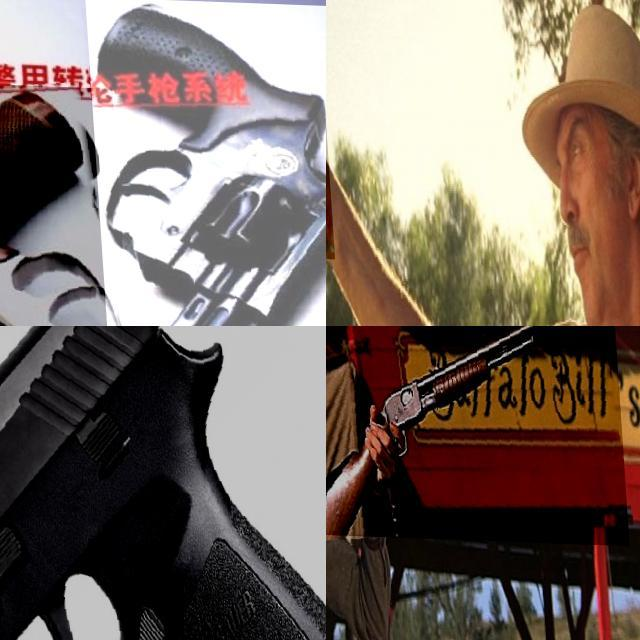gun-knife-thesis - v11 Yolov5 augmented: (0, 326, 326, 640), (85, 0, 326, 326), (326, 326, 624, 541), (0, 77, 161, 326), (326, 14, 402, 258)
